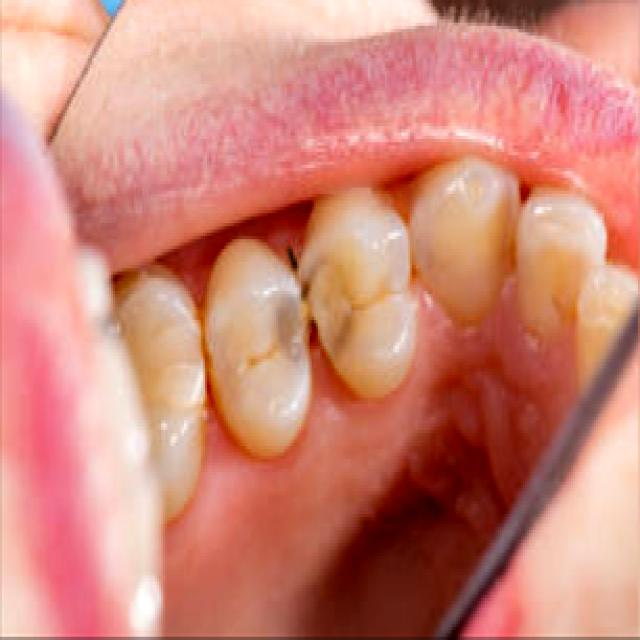cariess: (282, 246, 372, 385), (247, 265, 310, 365)
